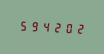five: (17, 18, 27, 32)
four: (40, 19, 50, 33)
nine: (28, 18, 38, 33)
two: (51, 19, 61, 34), (73, 21, 83, 35)
zero: (62, 20, 72, 35)
